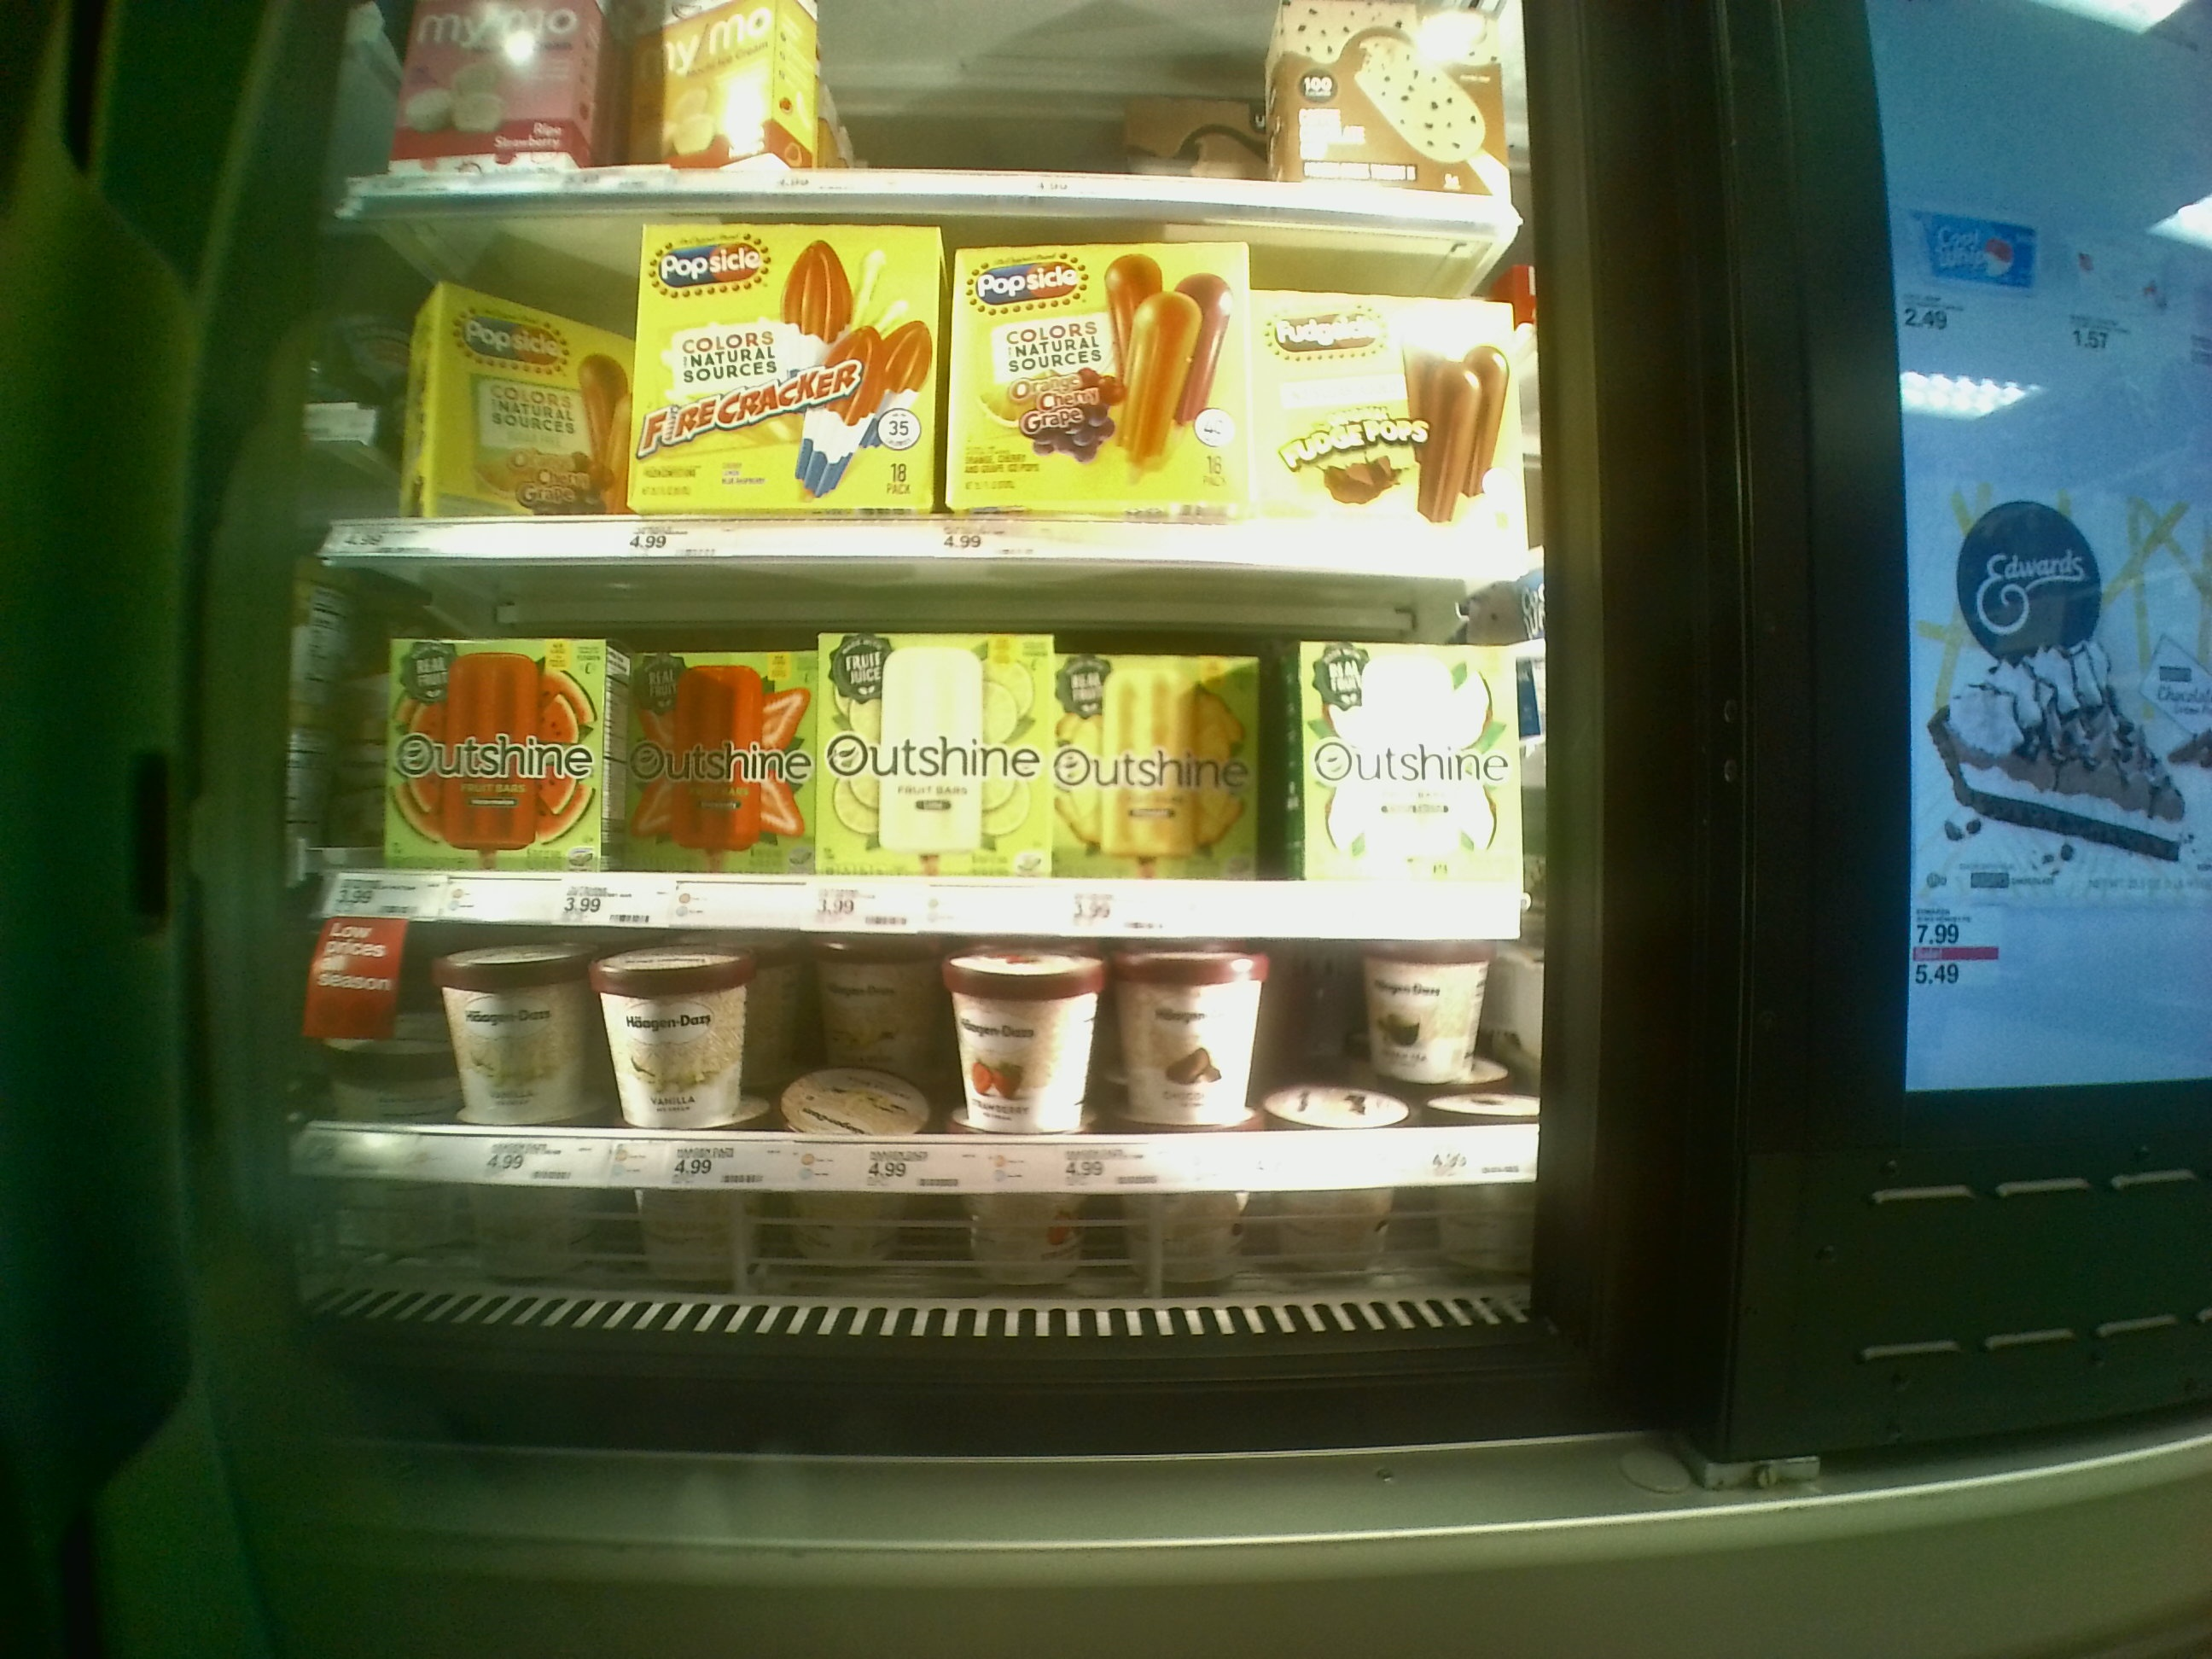ice-cream-shelf: (336, 197, 1533, 575), (303, 558, 1554, 918), (303, 918, 1531, 1185)
